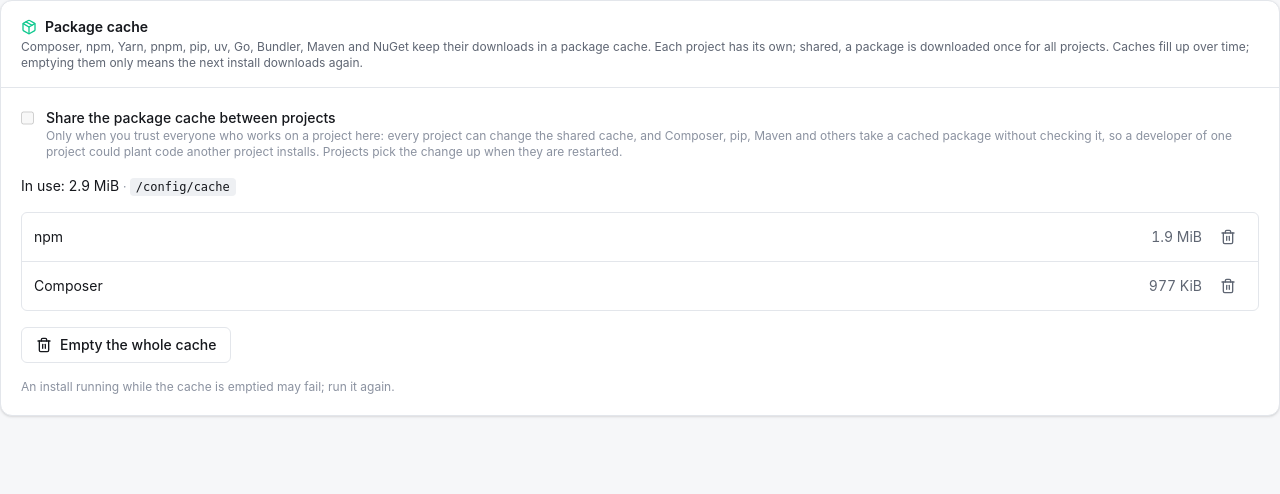
Scenario: PackageCacheCard › shows what each tool keeps and empties one or all
Expected: the text "npm" is shown, [34,227,63,247]
Expected: the text "Composer" is shown, [34,276,103,296]
Click the button named "Empty the npm cache" at (1228, 237), box [1210,221,1246,253]
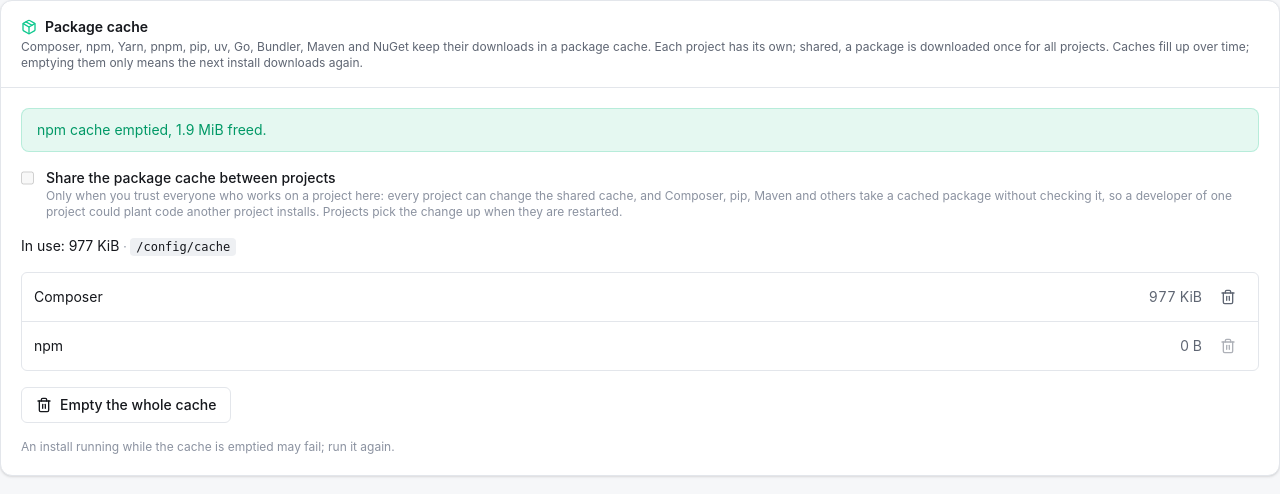
Expected: the text "npm cache emptied, 1.9 MiB freed." is shown, [37,121,267,138]
Click the button "Empty the whole cache" at (126, 405), box [21,387,231,423]
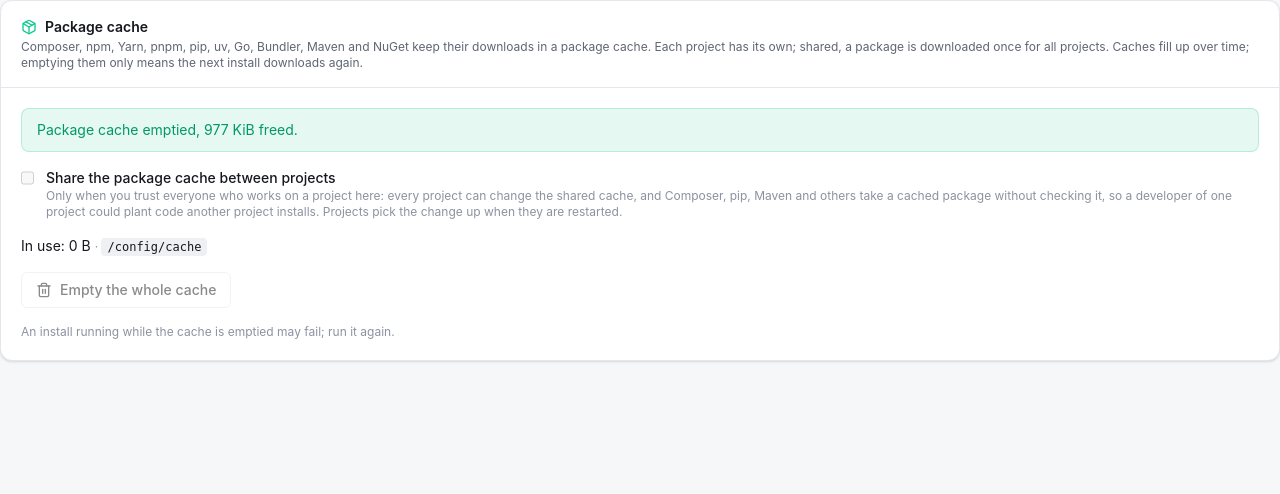
Expected: the text "Package cache emptied, 977 KiB freed." is shown, [37,121,298,138]
Expected: the button "Empty the whole cache" is disabled, [21,272,231,308]
